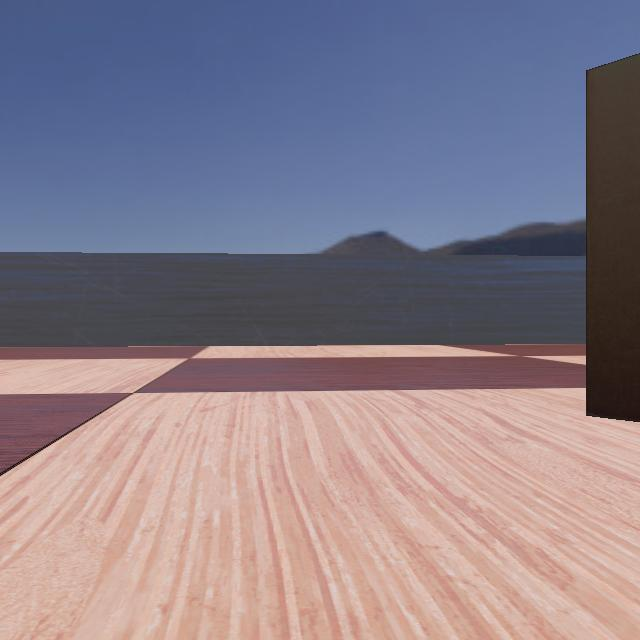cardboard-box: (539, 0, 639, 550)
